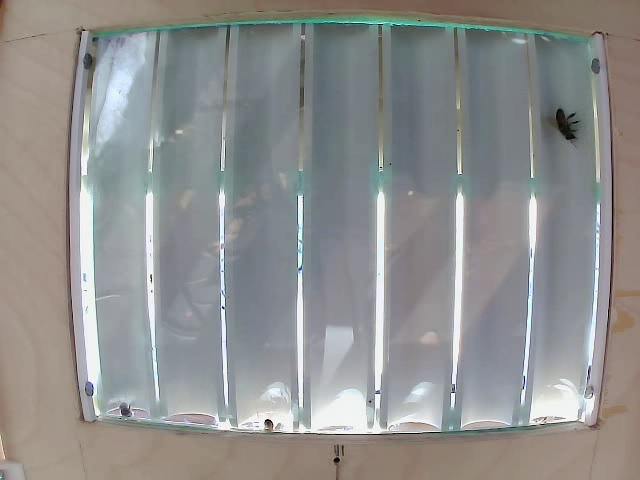bee: (542, 110, 573, 148)
